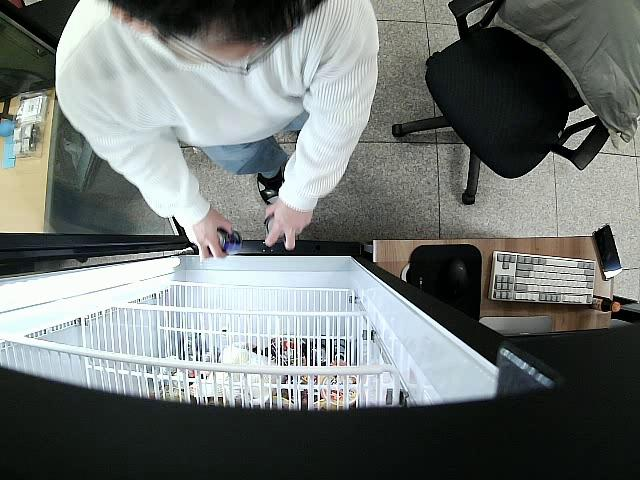00_hand: (184, 205, 232, 261), (264, 199, 314, 250)
14_welchsGrape: (205, 224, 244, 259), (258, 212, 289, 244)
